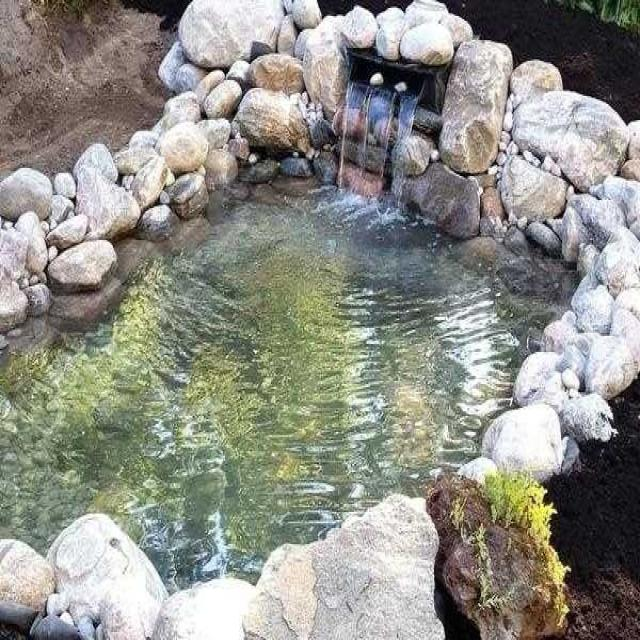Ponds: (1, 104, 640, 640)
